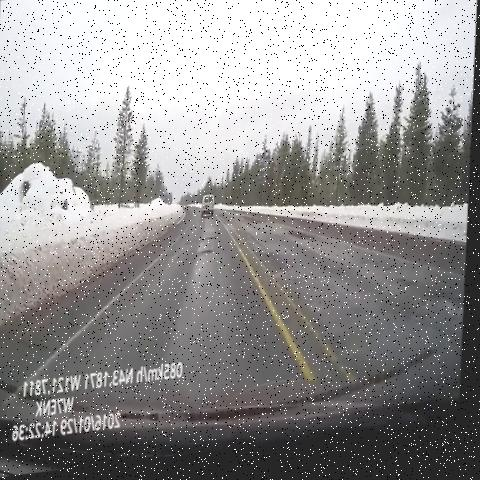pothole: (283, 227, 322, 265), (236, 211, 274, 243), (199, 235, 221, 252), (202, 250, 221, 265)
